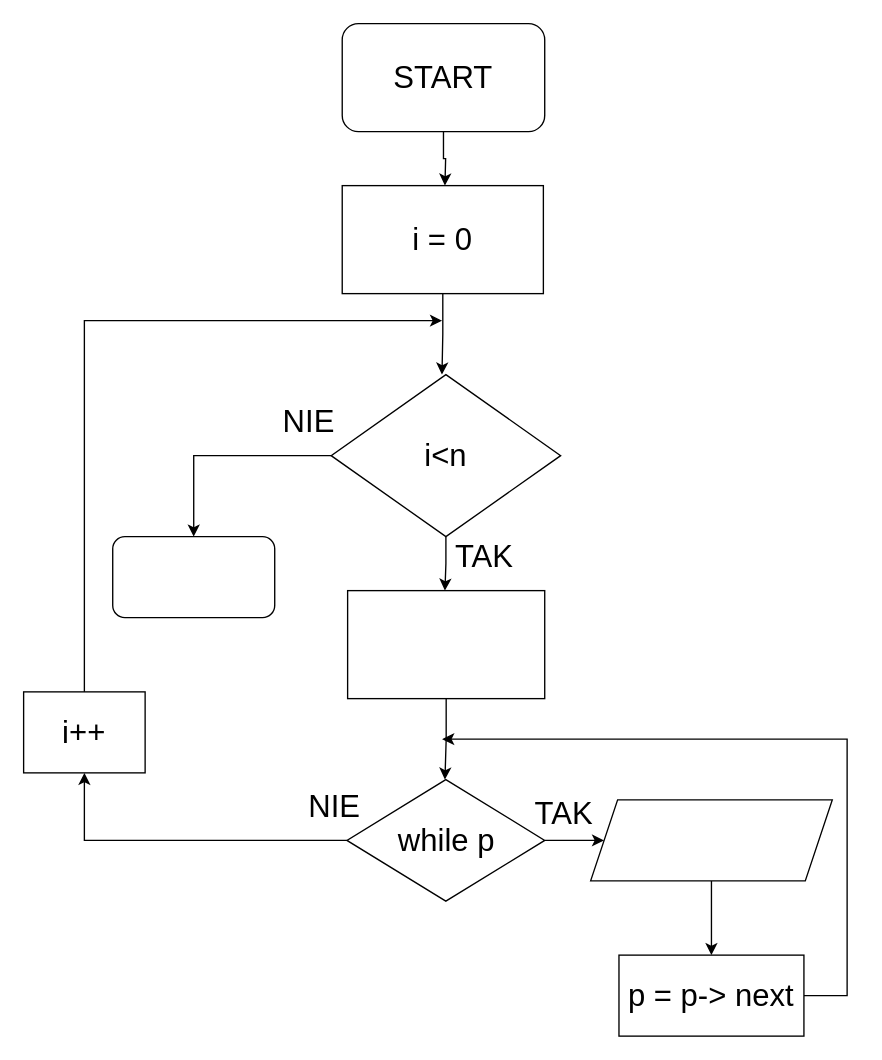
Some shapes in this 882 by 1060 pixel diagram are drawn without their labels. The shapes that lost their labels are listed below. From the top down, each one's centre as x and y in pixels, then its label:
At pixel 193 576: "STOP".
At pixel 445 644: "p=A[ i ]".
At pixel 710 840: "wypisz p->v".
